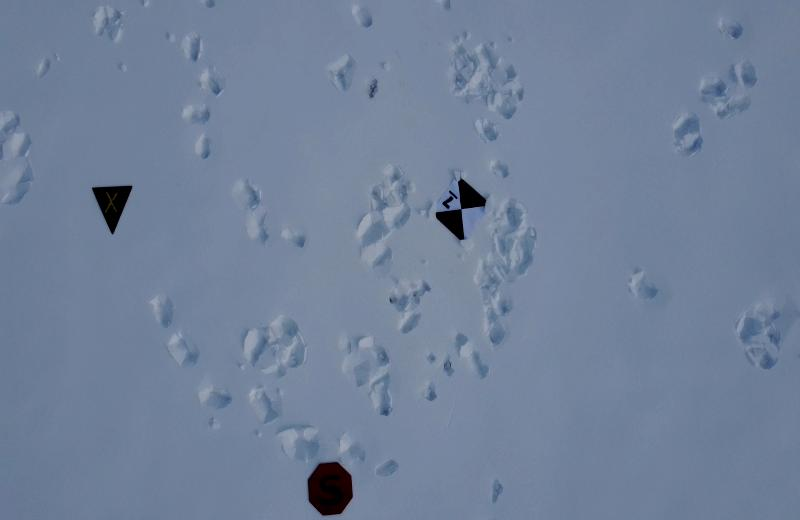Octagon: (306, 458, 356, 518)
Triangle: (90, 182, 134, 237)
